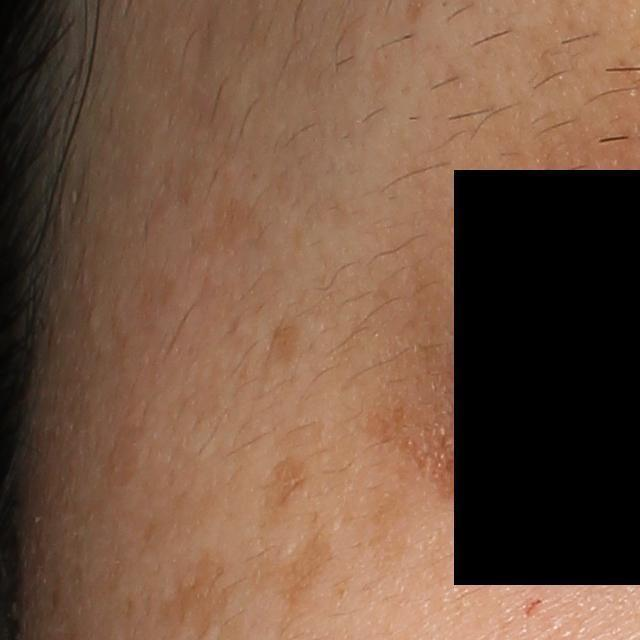melasma: (363, 403, 499, 505), (247, 513, 337, 628), (260, 450, 311, 531), (263, 312, 308, 375)
